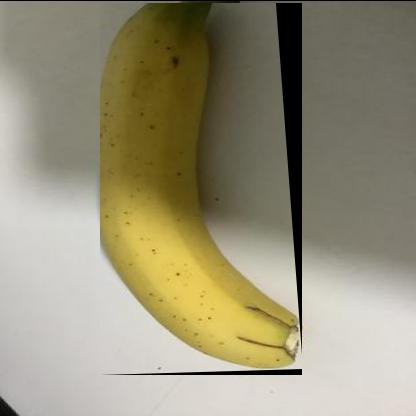bananarotation: (100, 1, 303, 374)
